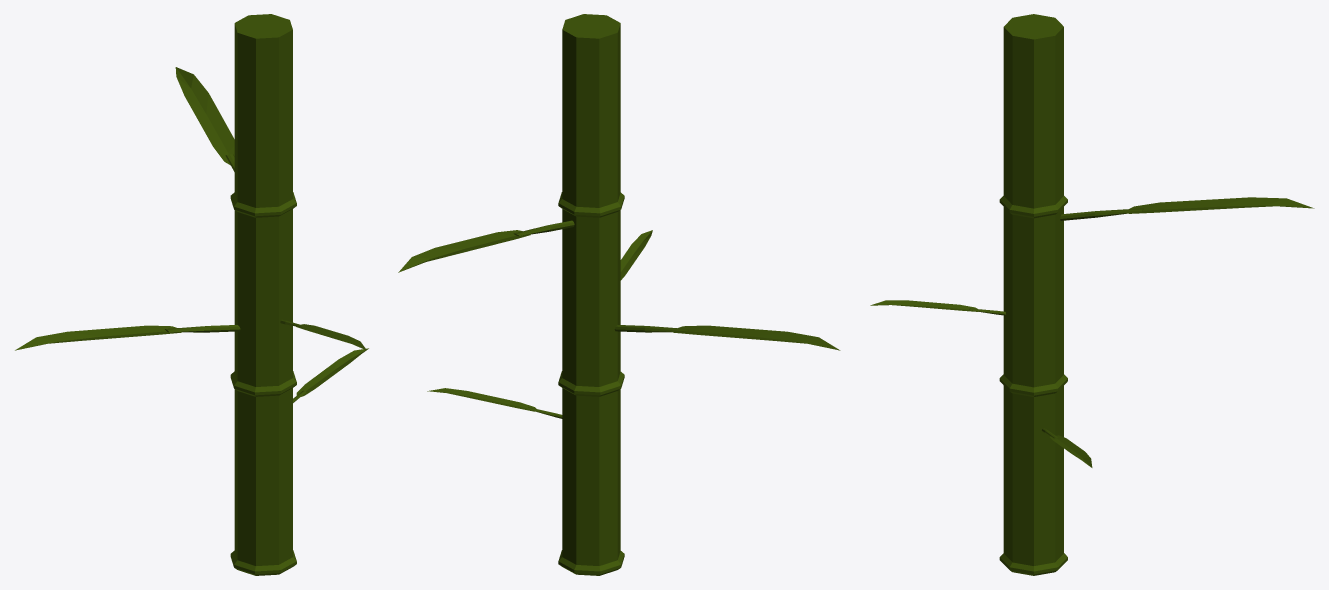
The model's file is Bamboo.fbx.
3 renders of one model, left to right at view 1: azimuth 30°, elevation 25°; view 2: azimuth 150°, elevation 25°; view 3: azimuth 270°, elevation 25°, orthographic.
Parts seen in each view (by area): view 1: 円柱; view 2: 円柱; view 3: 円柱.
Boxes of the visible parts, x1,y1,x2,y2 form: 円柱: (15,14,368,575); 円柱: (398,14,840,575); 円柱: (870,14,1314,575).
Size of the model in its own units: 648 by 865 by 651.
